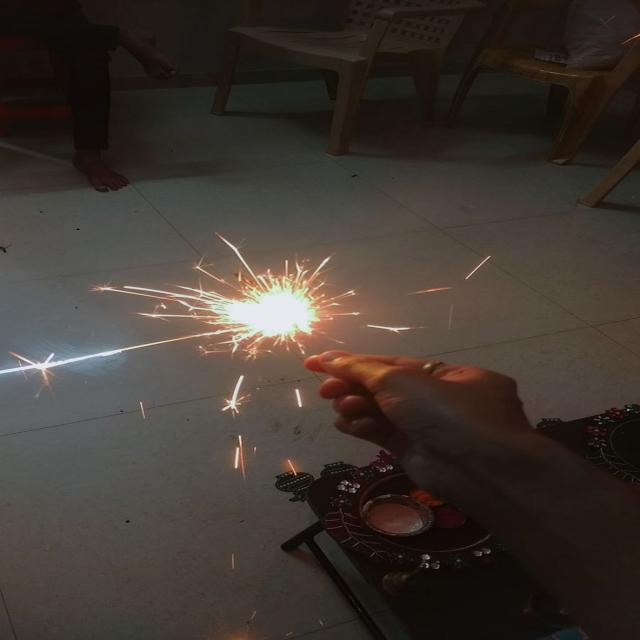fire: (212, 286, 321, 336)
